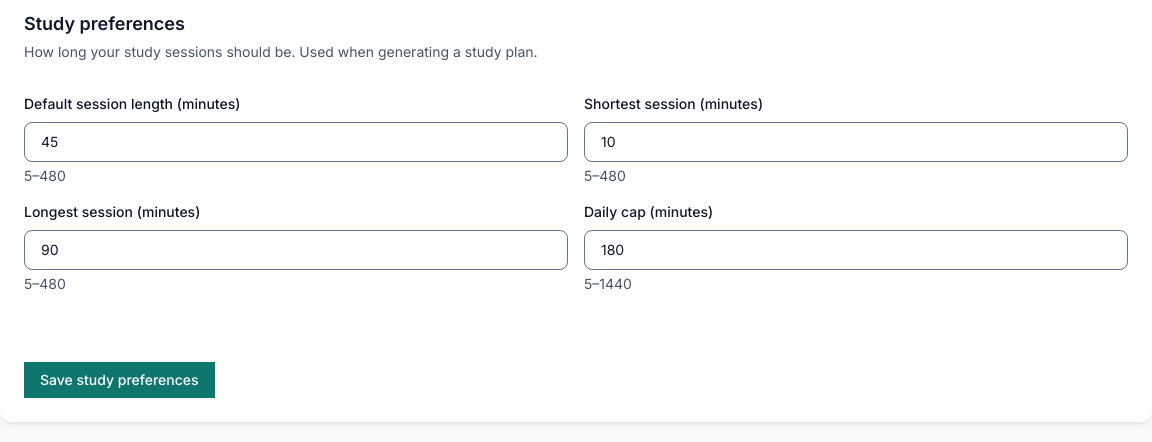
StudyPreferencesForm validation › blocks submit on a non-integer value
Replace the text in the number field labelled "Default session length (minutes)" with "1.5" at (296, 142), box left=24, top=122, right=568, bottom=162
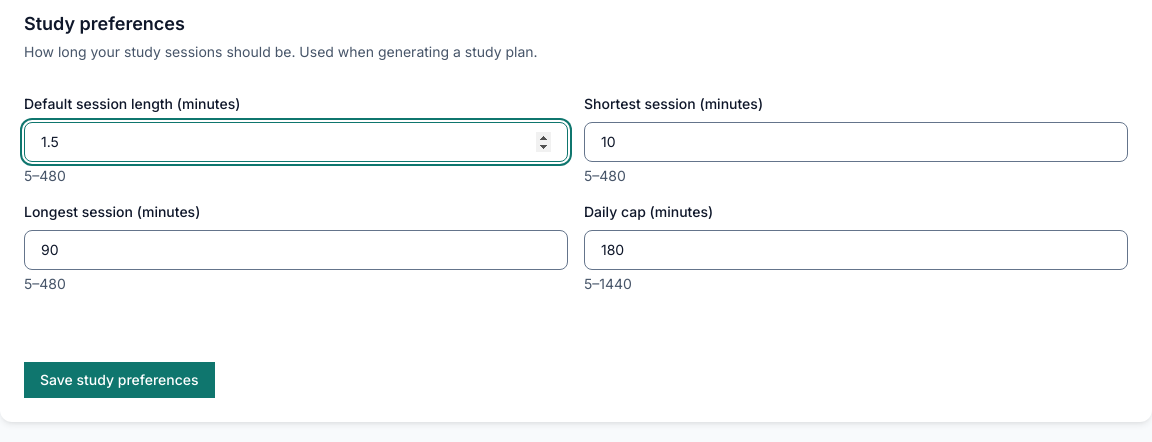
Click the button "Save study preferences".
click(119, 380)  # box left=24, top=362, right=215, bottom=398
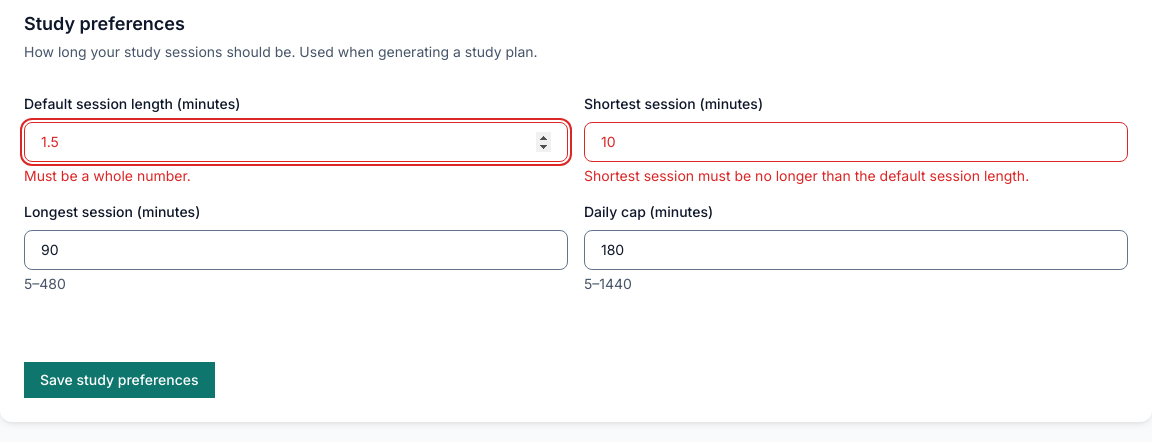
Expected: the text "Must be a whole number." is shown, left=24, top=167, right=191, bottom=184
